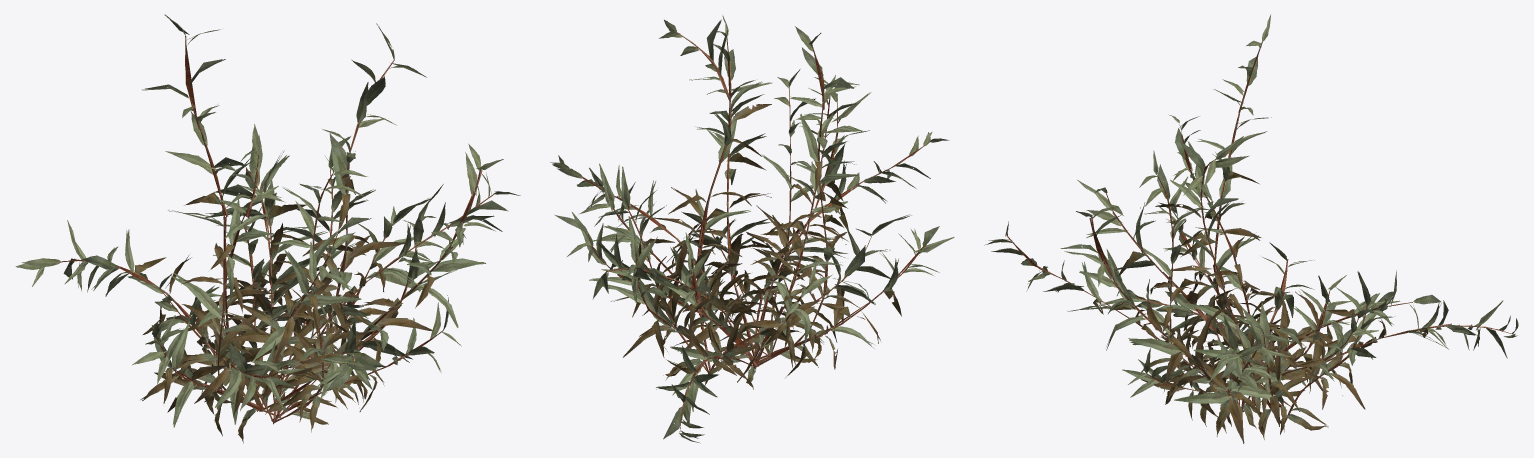
Rendered from shrub_02.glb.
3 renders of one model, left to right at view 1: azimuth 30°, elevation 25°; view 2: azimuth 150°, elevation 25°; view 3: azimuth 270°, elevation 25°, orthographic. The views are drawn at different scales.
Parts seen in each view (by area): view 1: shrub_02_v2_near, shrub_02_v0_near, shrub_02_v0_far, shrub_02_v2_far, shrub_02_v1_far, shrub_02_v1_near, shrub_02_v3_far, shrub_02_v3_near; view 2: shrub_02_v2_near, shrub_02_v0_near, shrub_02_v2_far, shrub_02_v0_far, shrub_02_v1_near, shrub_02_v1_far, shrub_02_v3_near, shrub_02_v3_far; view 3: shrub_02_v0_near, shrub_02_v0_far, shrub_02_v2_near, shrub_02_v1_far, shrub_02_v1_near, shrub_02_v2_far, shrub_02_v3_near, shrub_02_v3_far.
Part boxes in pixels (x1,y1,x2,y2): shrub_02_v2_near: (15,124,520,436); shrub_02_v0_near: (141,14,508,443); shrub_02_v0_far: (145,14,506,438); shrub_02_v2_far: (17,124,514,424); shrub_02_v1_far: (191,26,428,423); shrub_02_v1_near: (187,23,431,424); shrub_02_v3_far: (138,136,460,428); shrub_02_v3_near: (137,136,461,432); shrub_02_v2_near: (552,77,954,443); shrub_02_v0_near: (578,15,871,364); shrub_02_v2_far: (550,78,952,438); shrub_02_v0_far: (591,20,869,362); shrub_02_v1_near: (596,19,911,382); shrub_02_v1_far: (599,21,909,378); shrub_02_v3_near: (554,69,832,366); shrub_02_v3_far: (556,69,833,361); shrub_02_v0_near: (1060,15,1441,443); shrub_02_v0_far: (1066,15,1440,442); shrub_02_v2_near: (984,115,1518,426); shrub_02_v1_far: (1102,136,1399,435); shrub_02_v1_near: (1101,136,1400,439); shrub_02_v2_far: (988,118,1517,410); shrub_02_v3_near: (1122,150,1378,426); shrub_02_v3_far: (1123,152,1378,423).
Bounding box in the file's own units: 1.77 × 1.69 × 2.29.
Materials: 1 (1 with a texture image).
